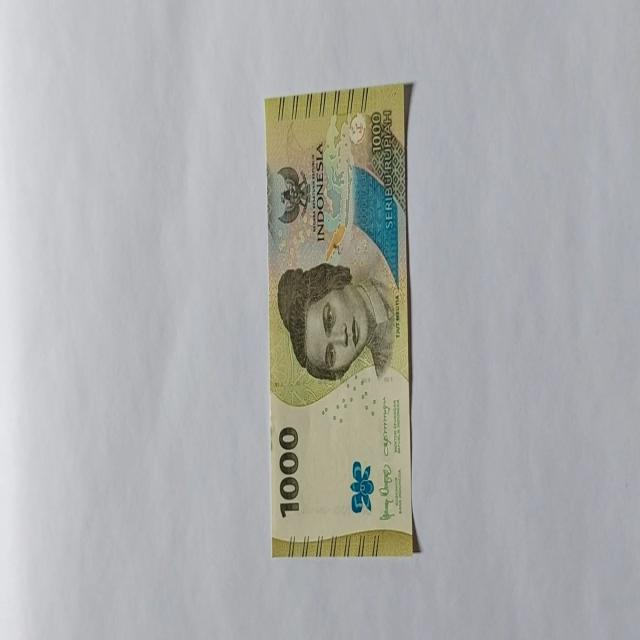seribu rupiah kertas: (265, 83, 415, 558)
